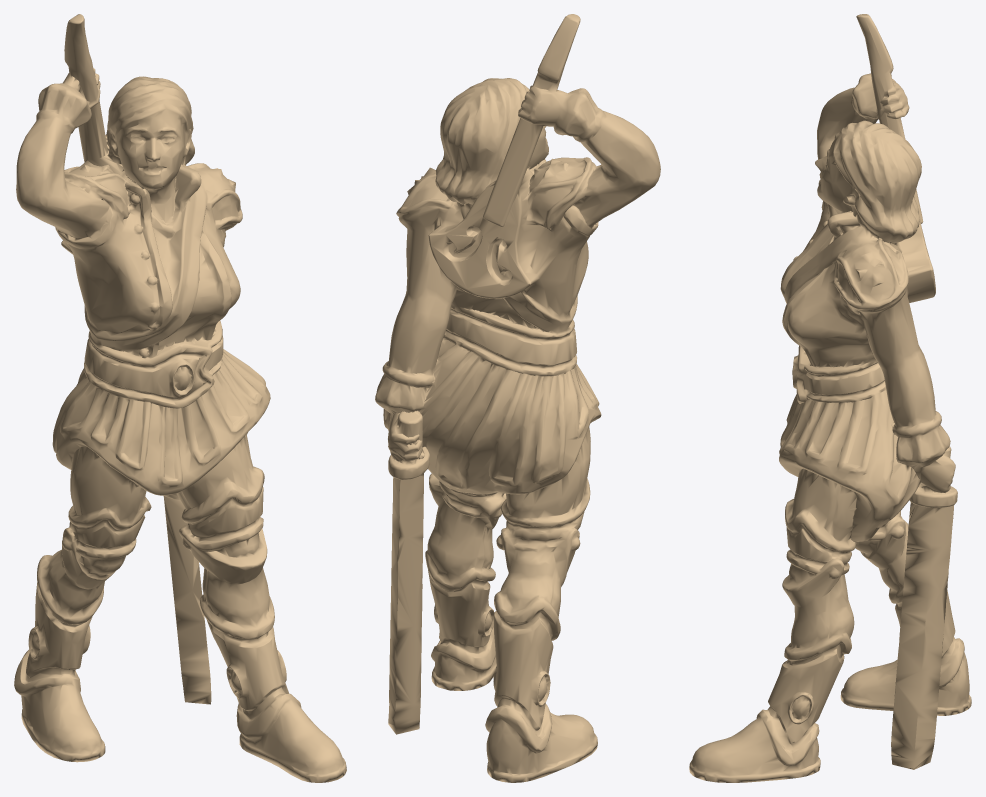
File: bard.glb
3 renders of one model, left to right at view 1: azimuth 30°, elevation 25°; view 2: azimuth 150°, elevation 25°; view 3: azimuth 270°, elevation 25°, orthographic. The views are drawn at different scales.
Parts seen in each view (by area): view 1: bard; view 2: bard; view 3: bard.
Boxes of the visible parts, x1,y1,x2,y2 form: bard: [14, 14, 346, 782]; bard: [375, 14, 660, 782]; bard: [689, 14, 971, 782].
Size of the model in its own units: 14.72 by 39.61 by 14.83.
